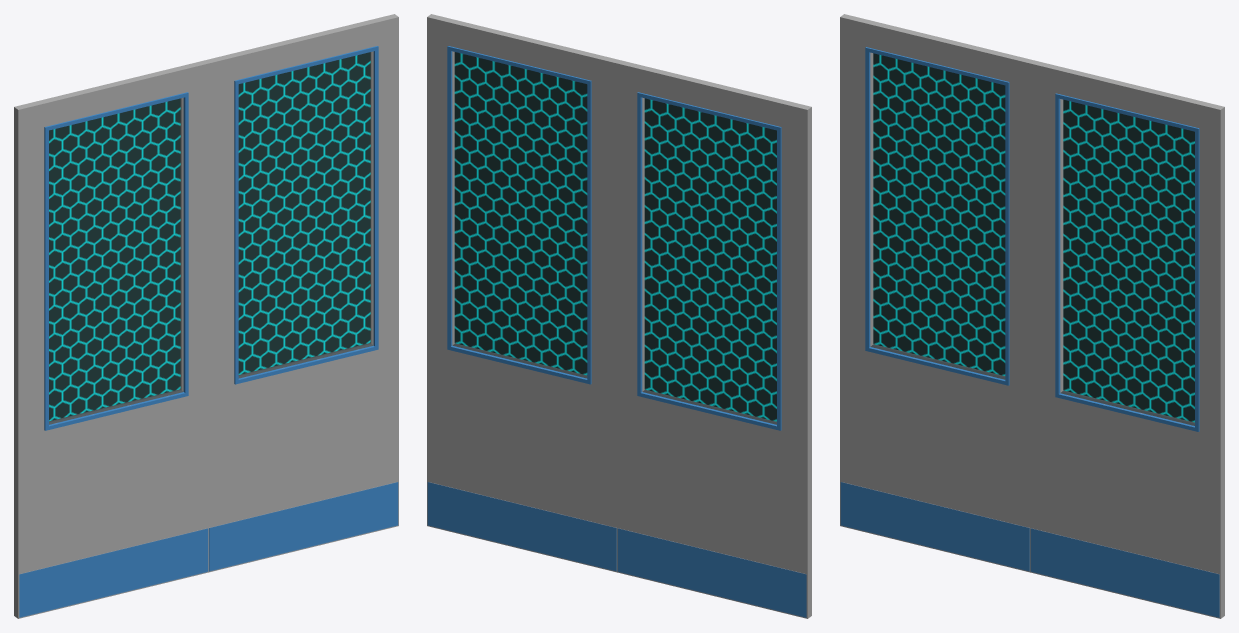
The model's file is SciFidoor.fbx.
3 views of the same model, side by side, from view 1: azimuth 30°, elevation 25°; view 2: azimuth 150°, elevation 25°; view 3: azimuth 330°, elevation 25° (orthographic).
Parts seen in each view (by area): view 1: Door (×2), Glass (×2); view 2: Door (×2), Glass (×2); view 3: Door (×2), Glass (×2).
Part boxes in pixels (x1,y1,x2,y2): Door (×2): (14,14,398,618); Glass (×2): (49,52,370,421); Door (×2): (427,14,811,618); Glass (×2): (454,52,776,421); Door (×2): (840,14,1224,618); Glass (×2): (873,53,1194,422).
Bounding box in the file's own units: 223 × 286 × 6.12.
